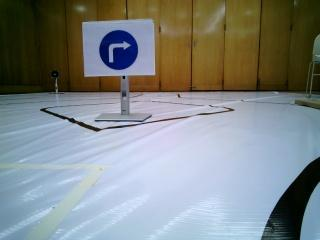right: (85, 23, 157, 78)
